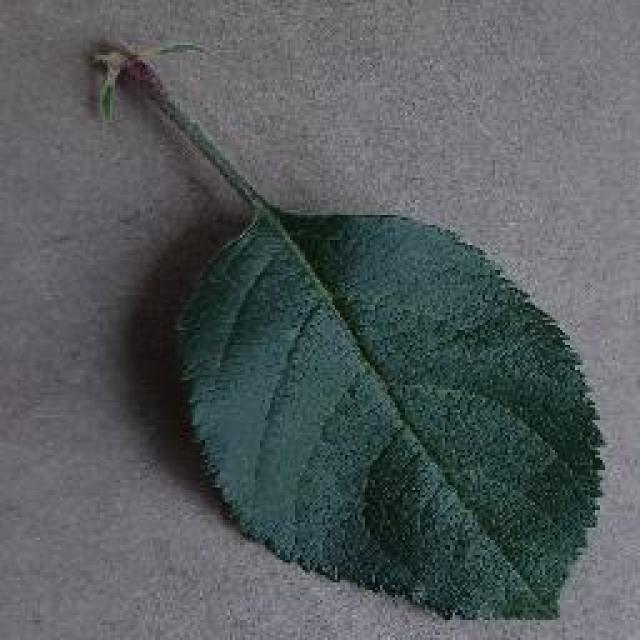apple healthy: (85, 32, 607, 622)
